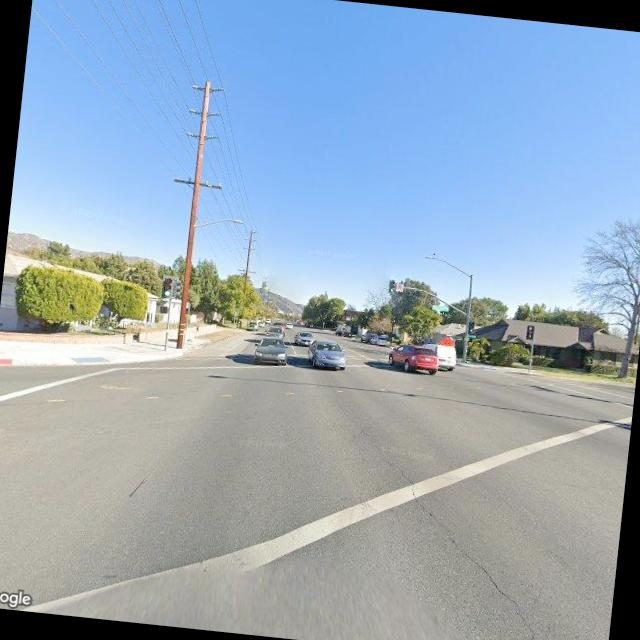crack: (313, 399, 561, 640), (125, 474, 146, 499)
